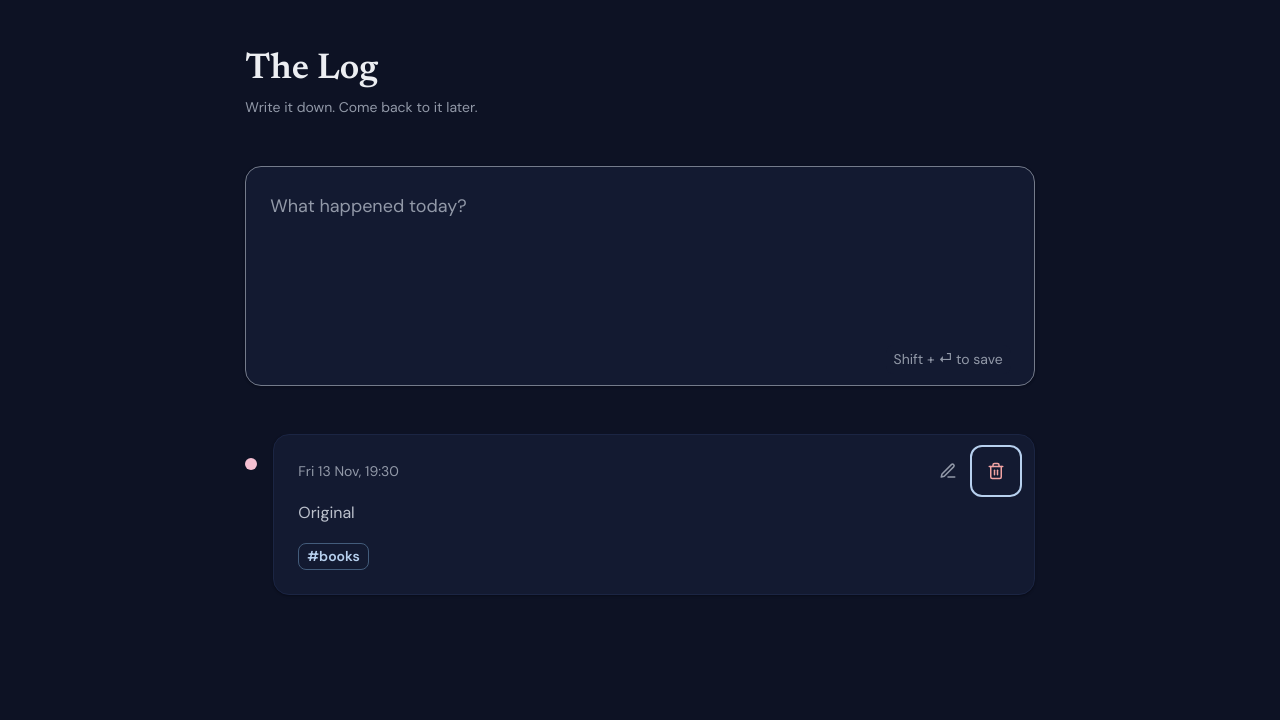
it: closes the delete dialog with Escape without deleting and returns focus to its button
Click the button named "Delete thought, Fri 13 Nov, 19:30" at (996, 471), box [974,449,1018,493]
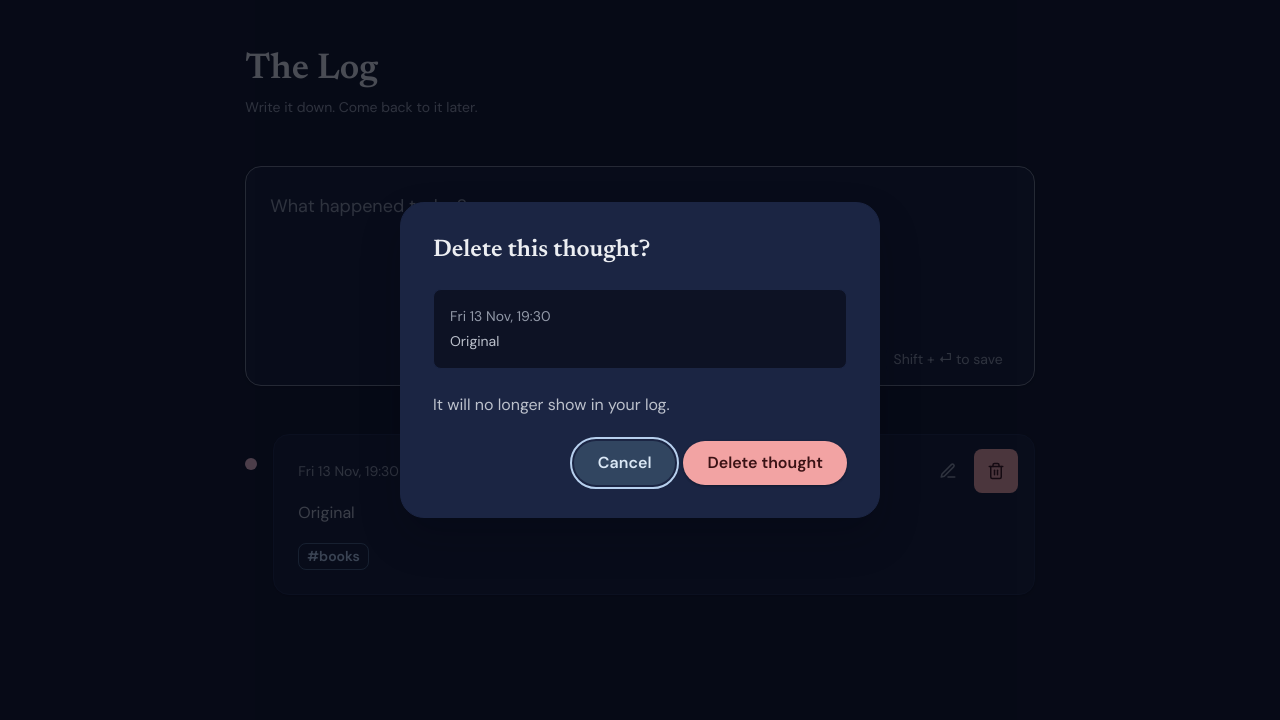
Press Escape in the button "Cancel", box [574,441,675,485]
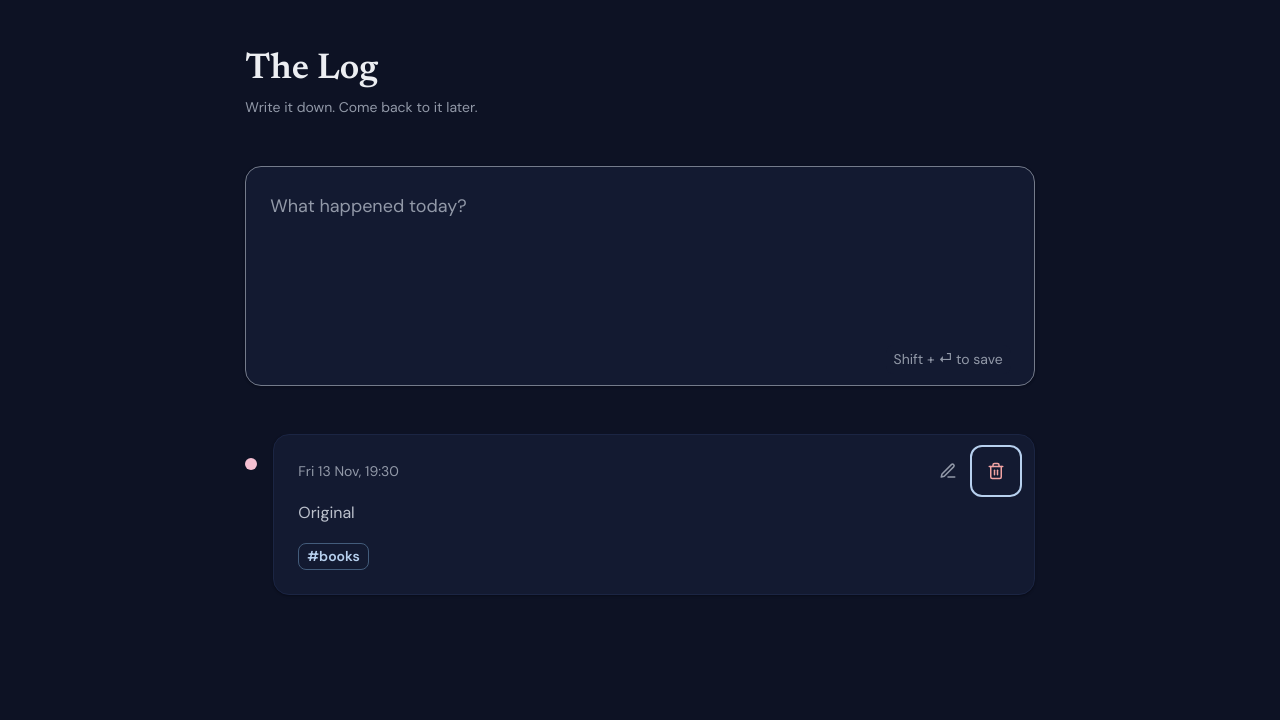
Now the dialog with class "delete-dialog" is gone
